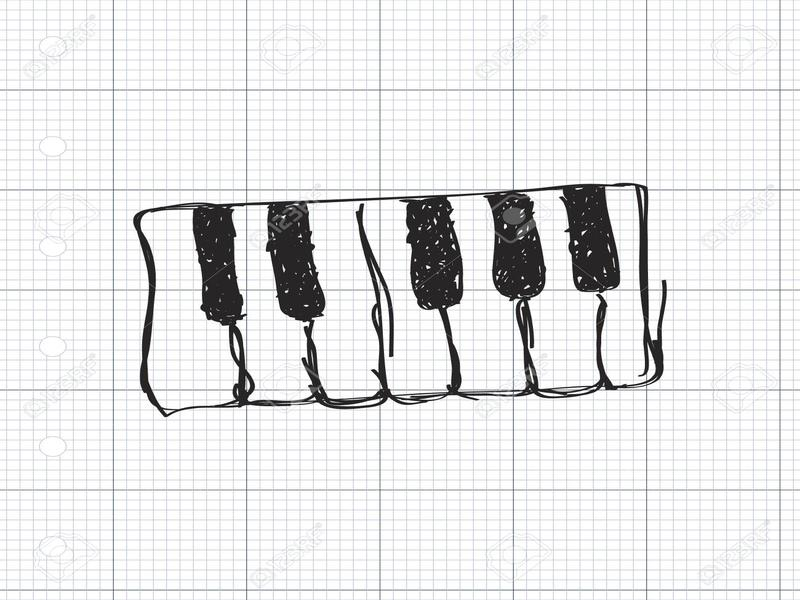piano: (133, 178, 652, 417)
